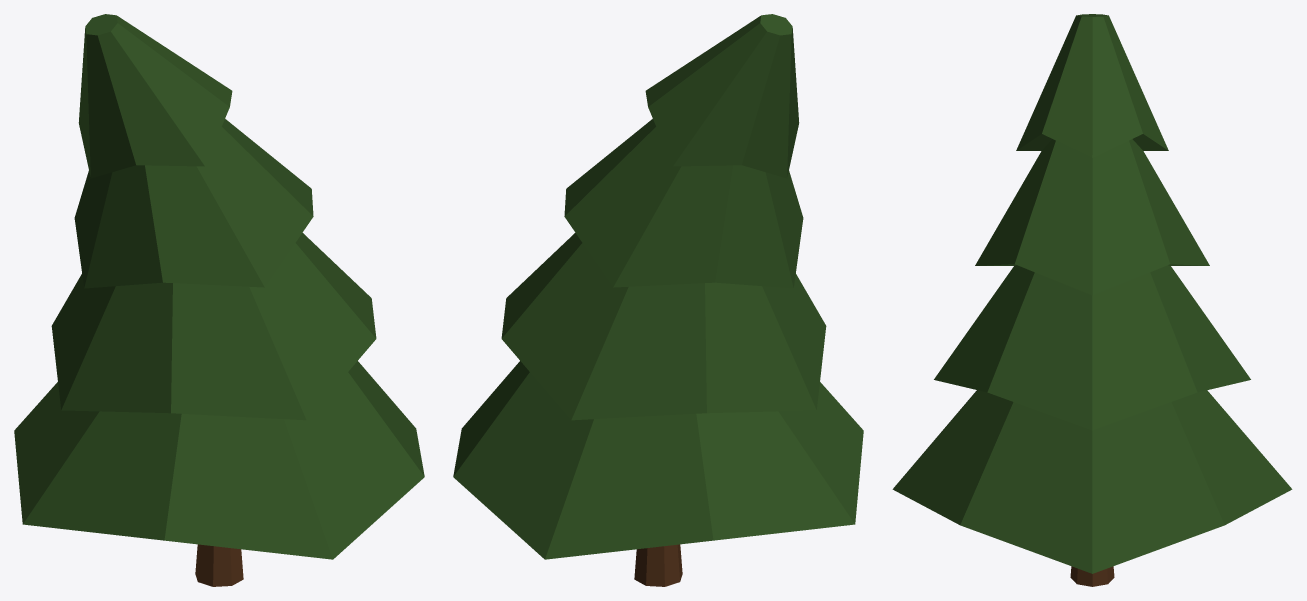
The model's file is SnowTreeType2.fbx.
The picture shows the model from 3 angles, left to right: view 1: azimuth 30°, elevation 25°; view 2: azimuth 150°, elevation 25°; view 3: azimuth 270°, elevation 25°; orthographic projection. The views are drawn at different scales.
Visible parts, largest first — view 1: Cylinder.002; view 2: Cylinder.002; view 3: Cylinder.002.
Boxes of the visible parts, box(x1,y1,x2,y2) form: Cylinder.002: box(14, 14, 424, 586); Cylinder.002: box(453, 14, 863, 586); Cylinder.002: box(892, 14, 1292, 586).
Size of the model in its own units: 5.45 by 7.76 by 5.45.
